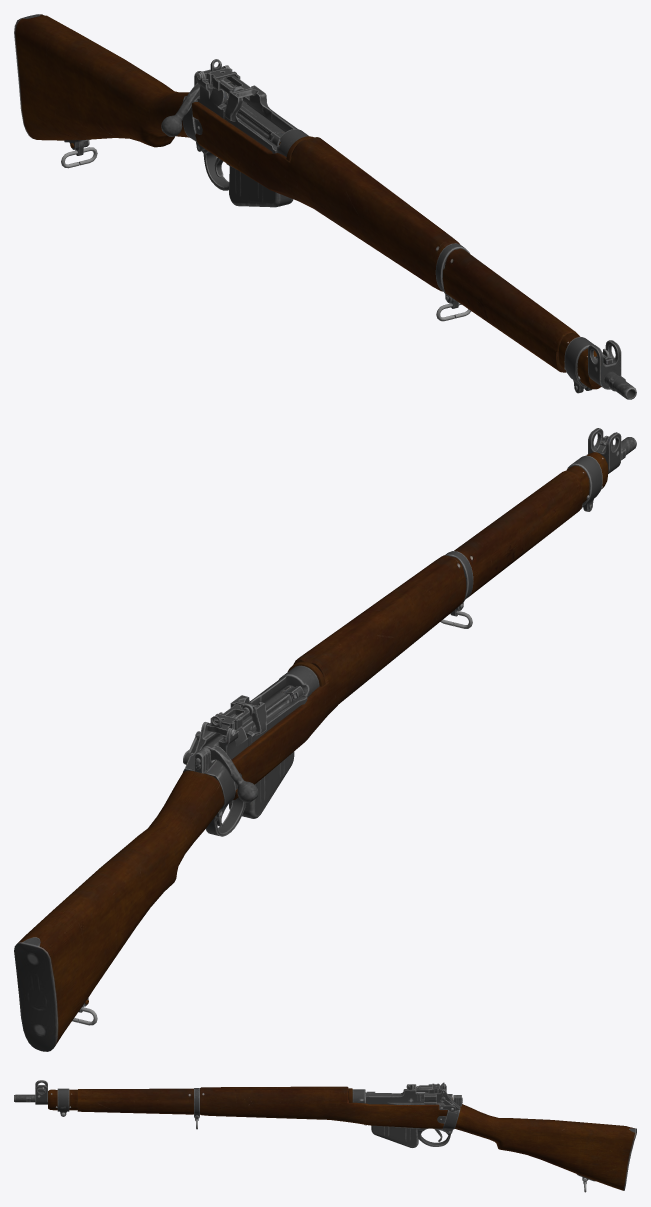
The model's file is wpn_lee_enfield.glb.
The picture shows the model from 3 angles, top to bottom: view 1: azimuth 30°, elevation 25°; view 2: azimuth 150°, elevation 25°; view 3: azimuth 270°, elevation 25°; orthographic projection. The views are drawn at different scales.
Parts seen in each view (by area): view 1: body, bolt; view 2: body, bolt; view 3: body.
Part boxes in pixels (box(x1,y1,x2,y2)): body: box(14, 14, 636, 399); bolt: box(161, 71, 284, 140); body: box(14, 428, 636, 1051); bolt: box(194, 692, 292, 802); body: box(14, 1080, 636, 1192).
Size of the model in its own units: 0.0787 by 0.2218 by 1.17.
1 material, 1 textured.
